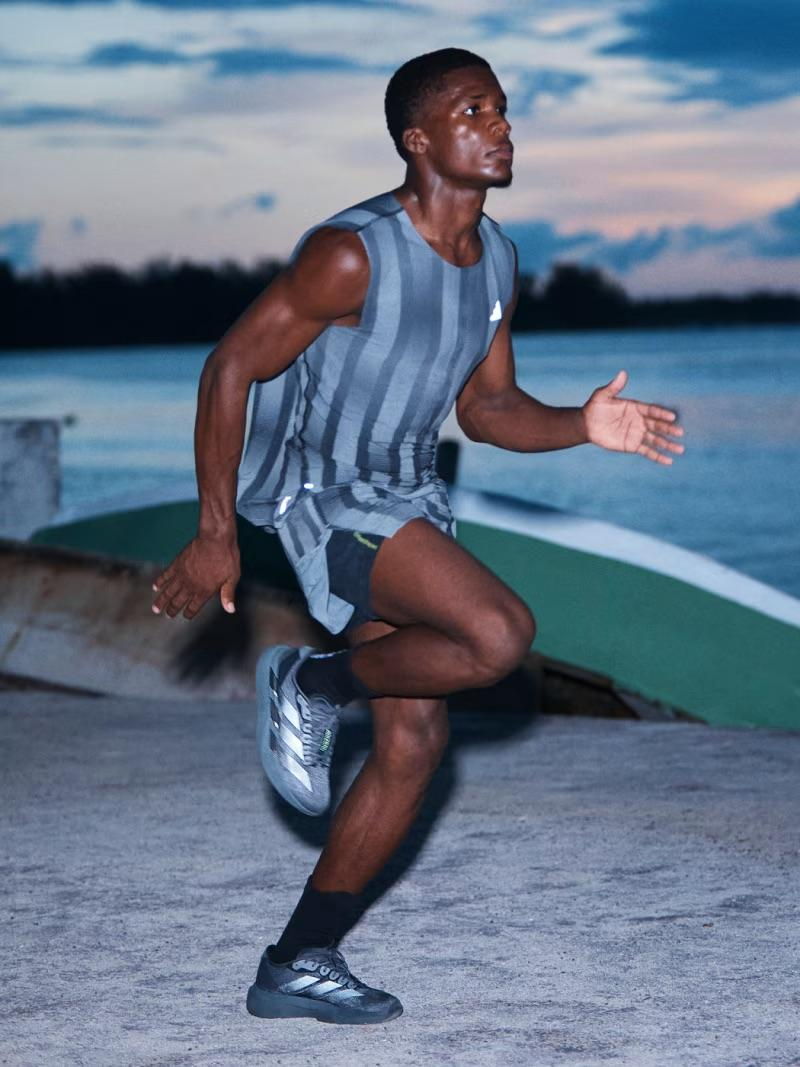adidas logo: (266, 657, 324, 804), (278, 961, 376, 1014)
